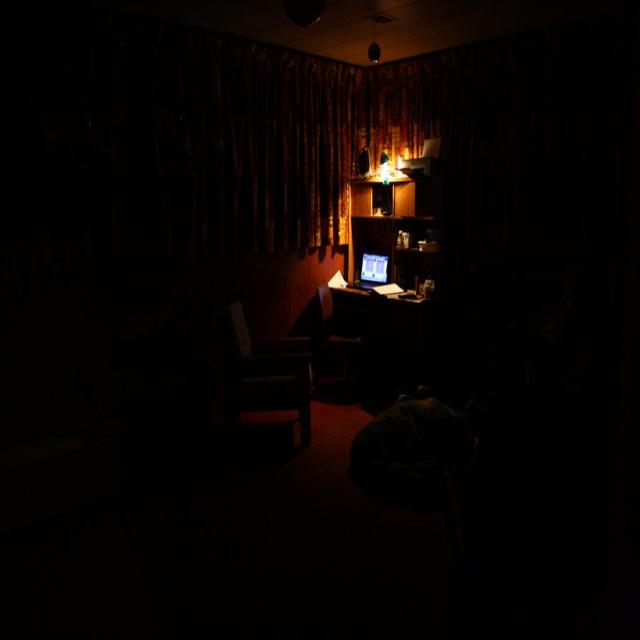Table: (319, 254, 462, 401)
chair: (212, 273, 325, 453)
